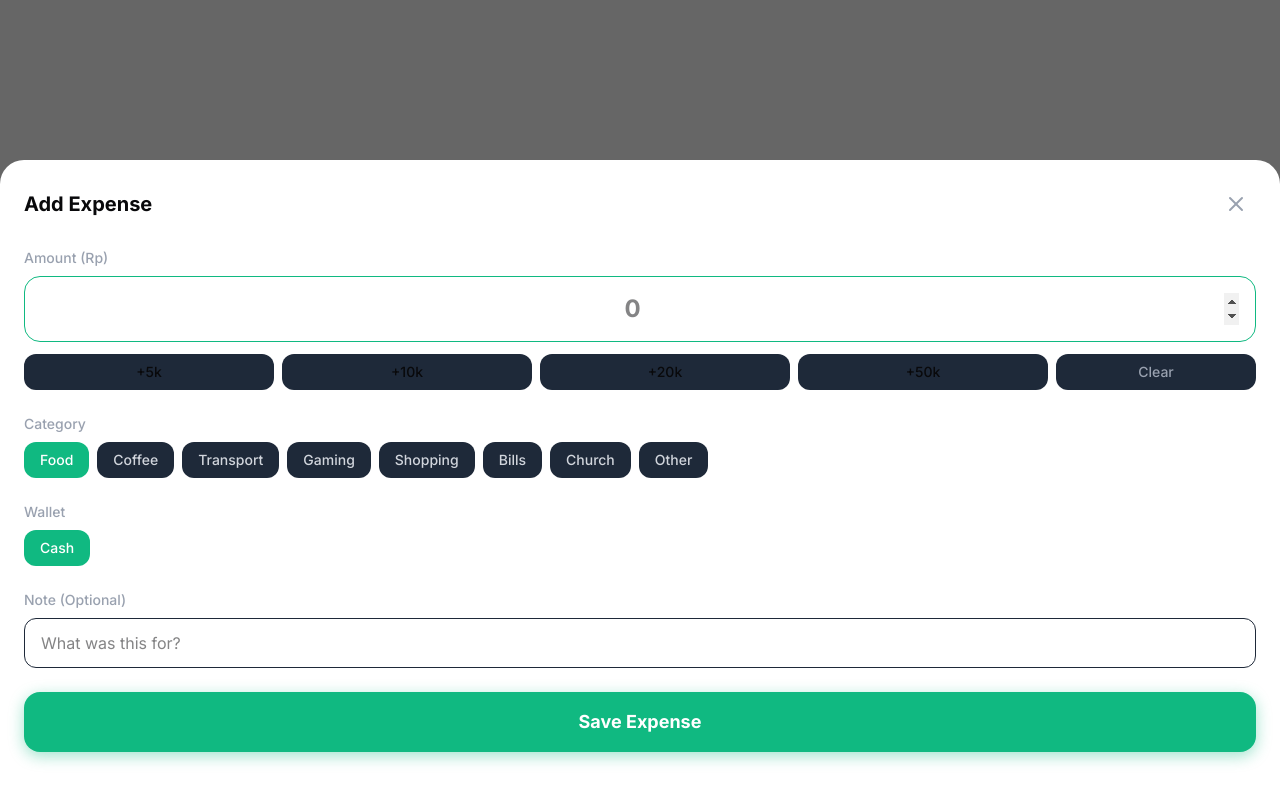
Test: AddExpenseModal Validation › shows error when amount exceeds wallet balance
In the number field with placeholder "0": (640, 309) [24,276,1256,342], type "60000"
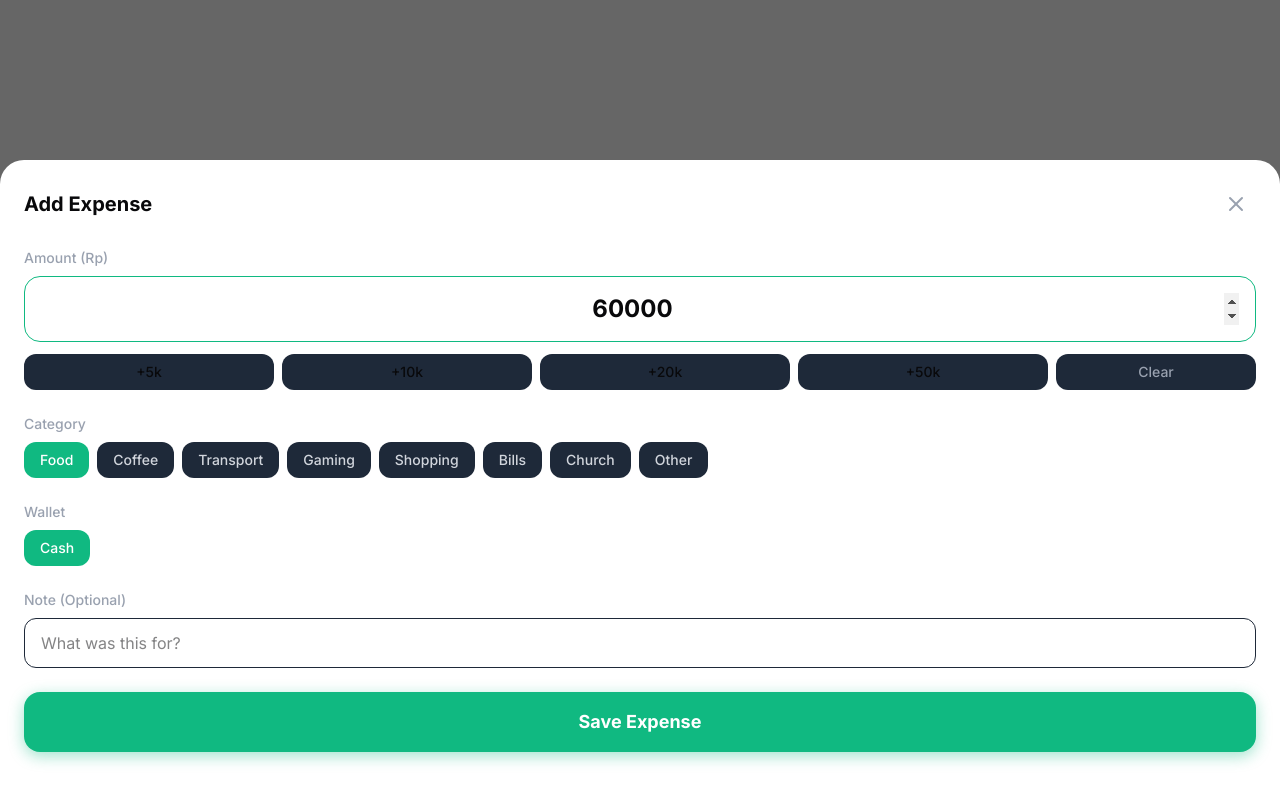
# Submit form
Click the button "Save Expense": (640, 722) [24,692,1256,752]
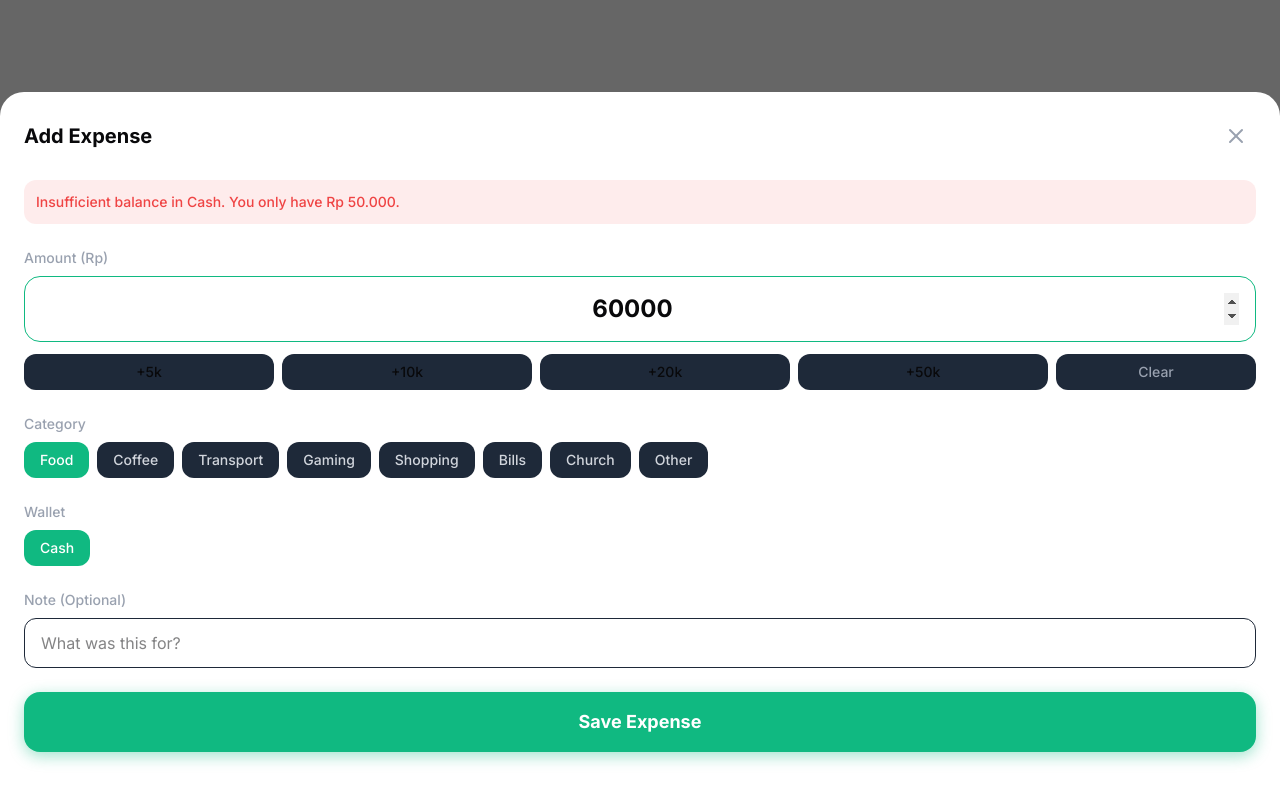
Expected: the text "Insufficient balance in Cash. You only have Rp 50.000." is shown, [24,180,1256,224]
